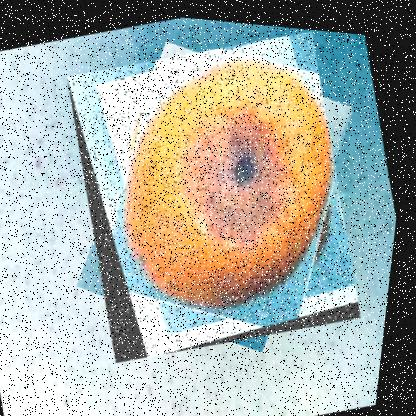orange_rotten: (44, 6, 393, 378)
